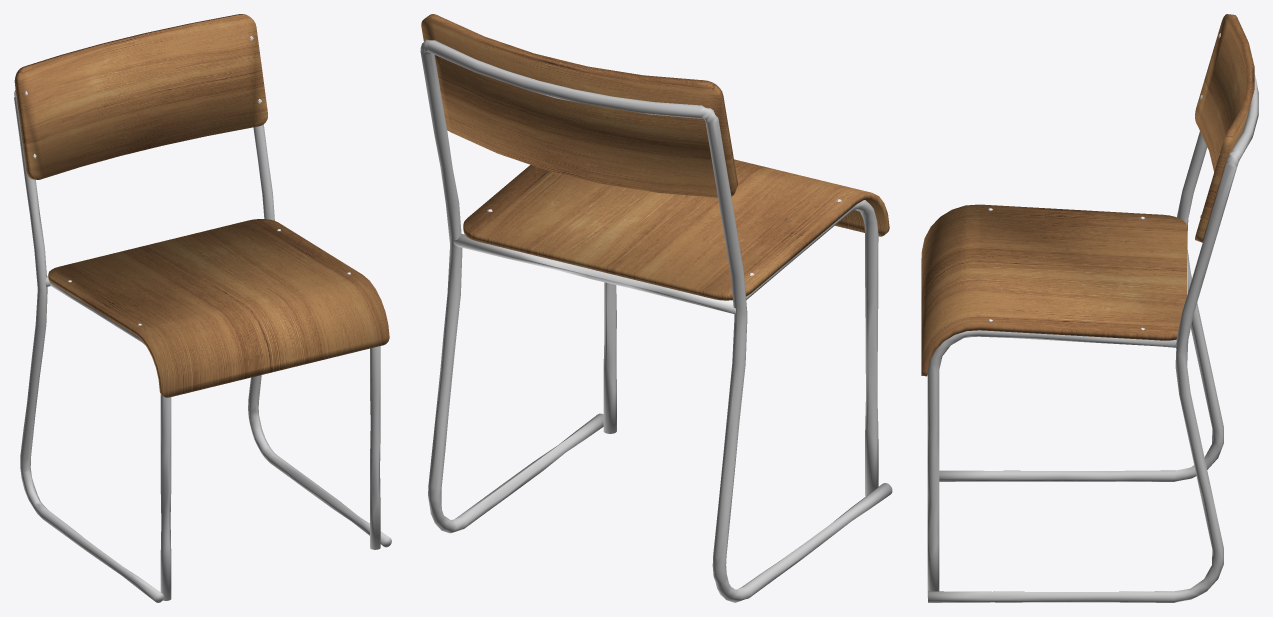
File: gus-churchchair-whiteoak.glb
The picture shows the model from 3 angles, left to right: view 1: azimuth 30°, elevation 25°; view 2: azimuth 150°, elevation 25°; view 3: azimuth 270°, elevation 25°; orthographic projection. The views are drawn at different scales.
Parts seen in each view (by area): view 1: gus-churchchair-whiteoak; view 2: gus-churchchair-whiteoak; view 3: gus-churchchair-whiteoak.
Part boxes in pixels (x1,y1,x2,y2): gus-churchchair-whiteoak: (14,14,391,602); gus-churchchair-whiteoak: (420,14,892,602); gus-churchchair-whiteoak: (921,14,1258,602).
Size of the model in its own units: 45.88 by 78.95 by 51.36.
Materials: 13 (2 with a texture image).
